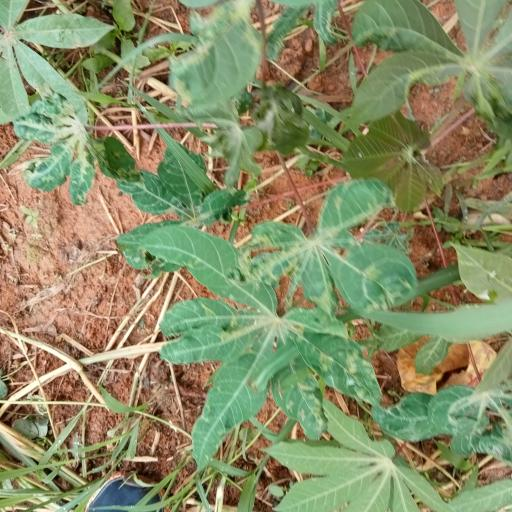Cassava_Mosaic: (125, 227, 365, 446), (249, 180, 407, 318), (21, 88, 97, 199)
